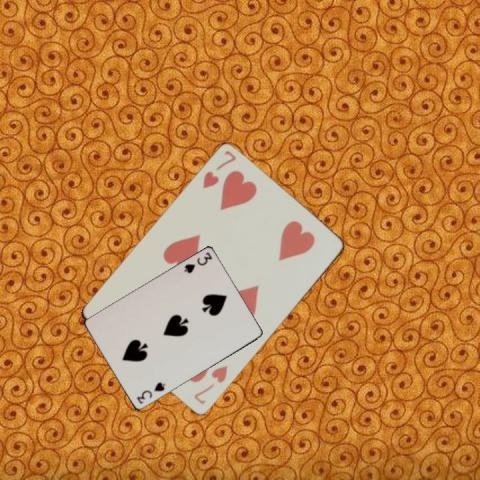3s: (134, 380, 166, 406), (182, 250, 214, 276)
7h: (199, 148, 238, 191), (191, 362, 229, 406)
